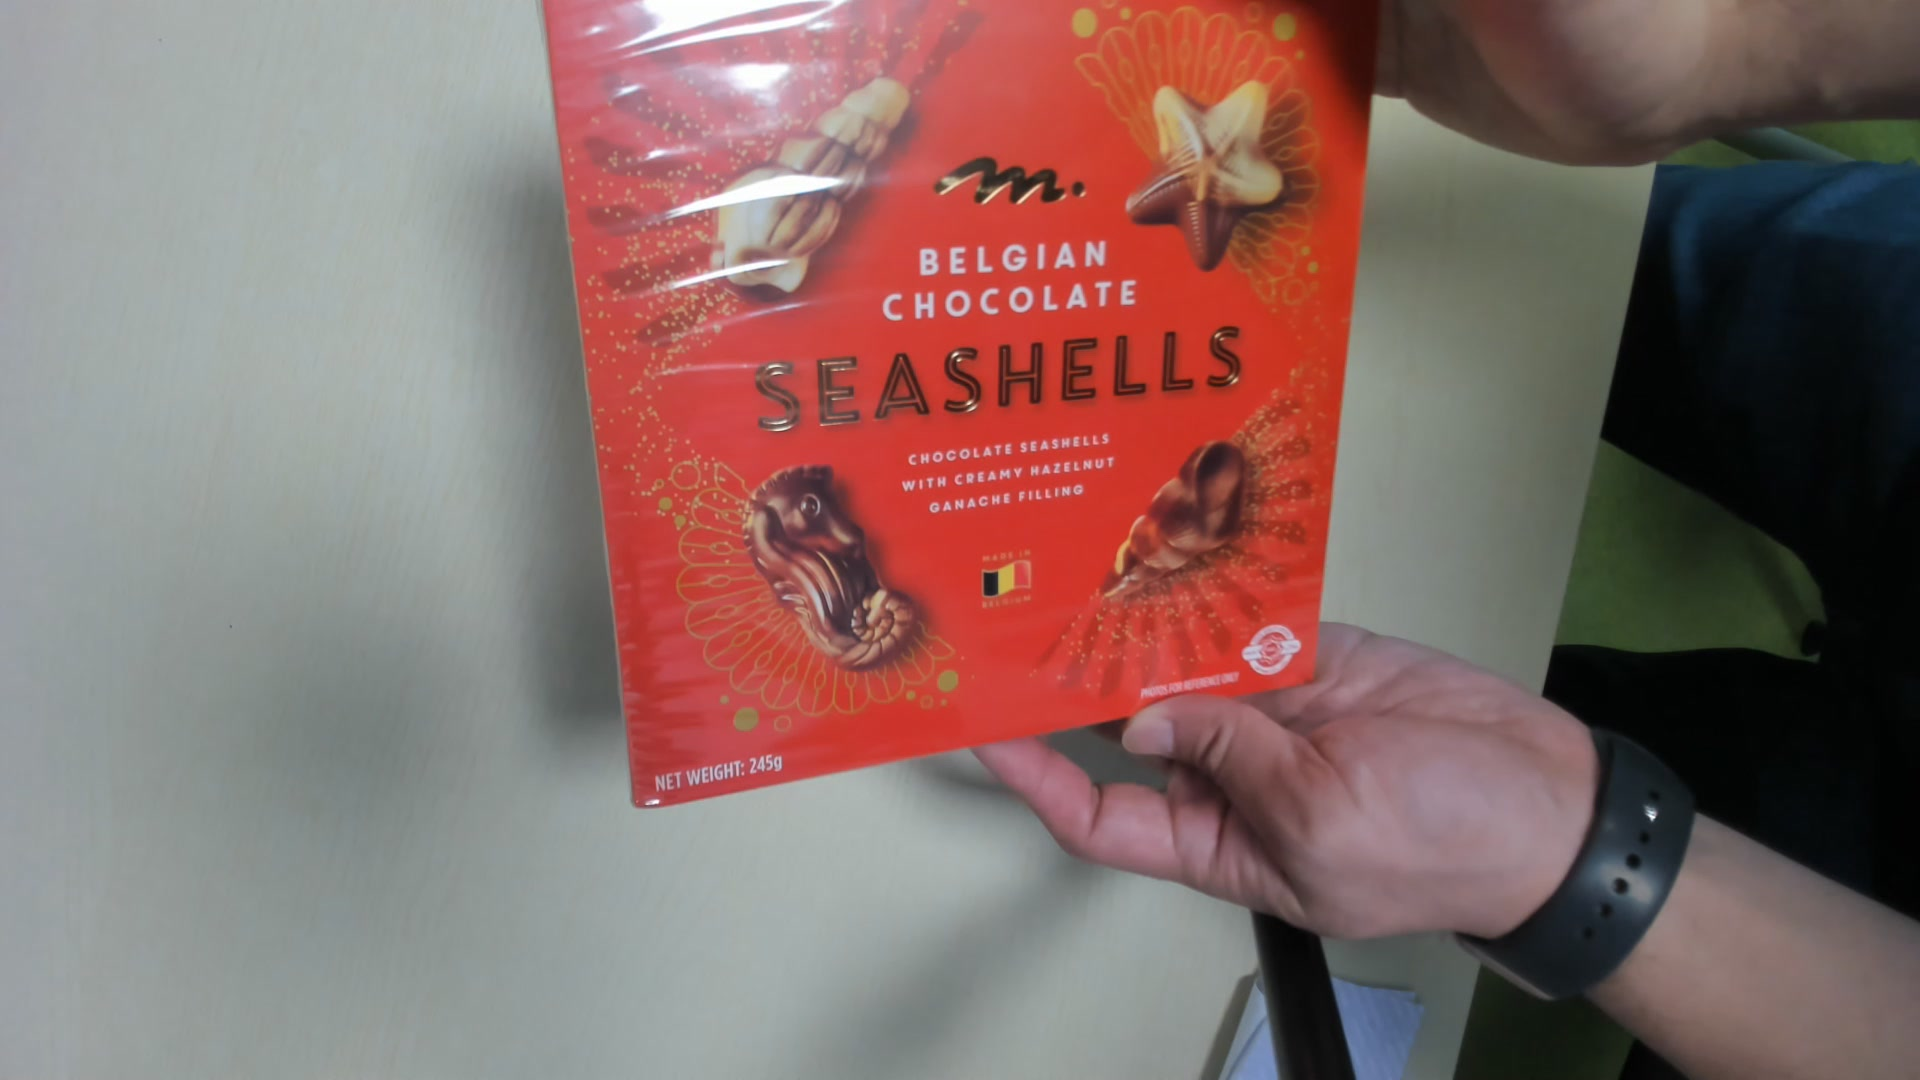SweetsChocolatesOthers_200-299g_Halal_Nonhealthy: (549, 11, 1354, 815)
